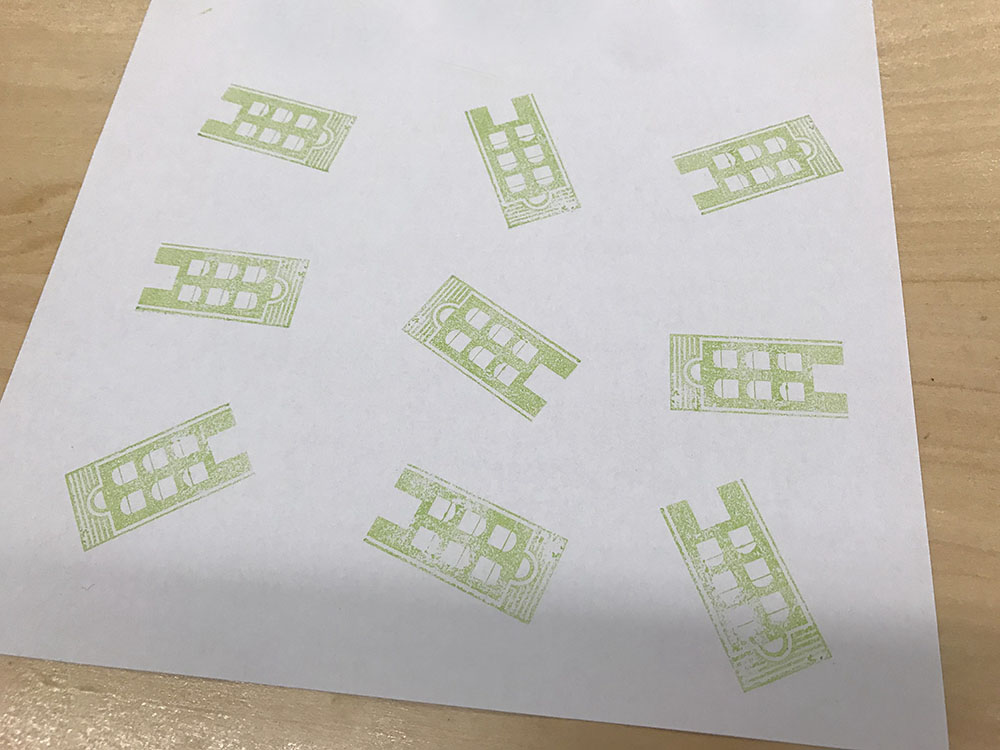build: (643, 462, 852, 709), (357, 446, 581, 644), (395, 263, 589, 437), (55, 402, 262, 562), (652, 100, 858, 230), (173, 72, 370, 194), (444, 81, 593, 239), (648, 323, 869, 426), (119, 230, 319, 341)
